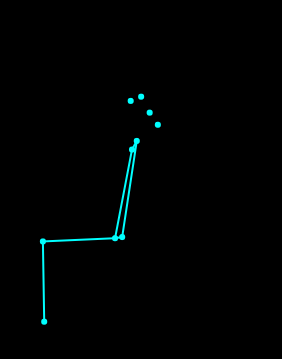warrior_1: (22, 69, 183, 332)
